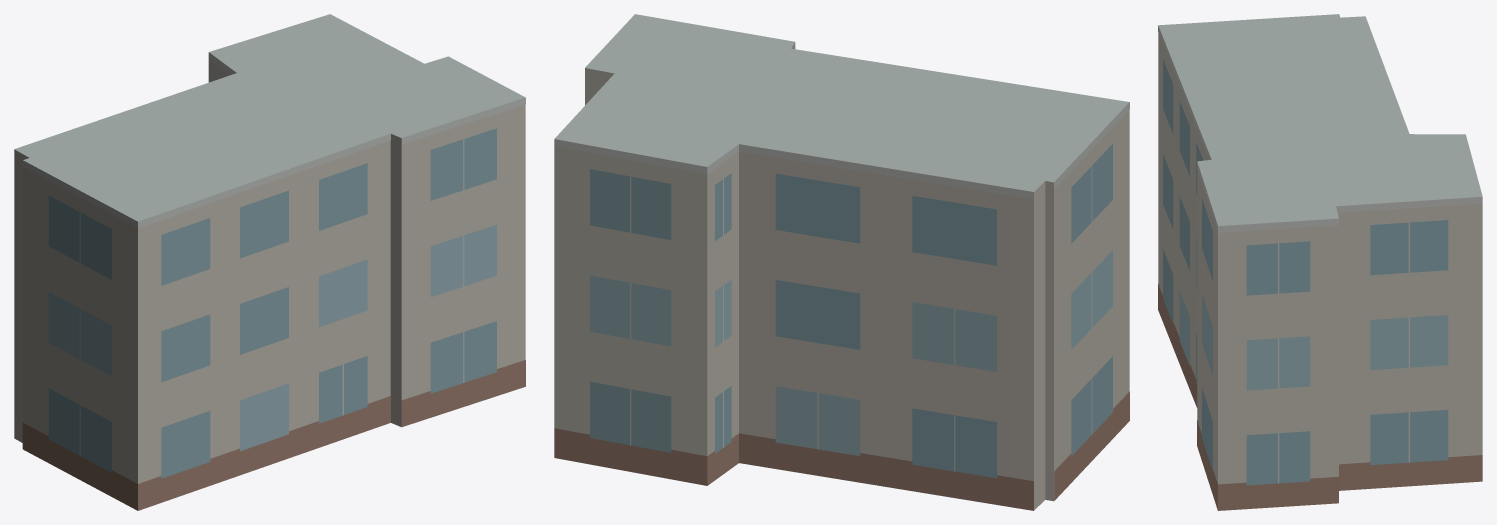
Rendered from survey-upis-32664588.glb.
The picture shows the model from 3 angles, left to right: view 1: azimuth 30°, elevation 25°; view 2: azimuth 150°, elevation 25°; view 3: azimuth 270°, elevation 25°; orthographic projection. The views are drawn at different scales.
Visible parts, largest first — view 1: survey-upis-32664588.tmp; view 2: survey-upis-32664588.tmp; view 3: survey-upis-32664588.tmp.
Boxes of the visible parts, box(x1,y1,x2,y2) form: survey-upis-32664588.tmp: box(14, 14, 525, 510); survey-upis-32664588.tmp: box(554, 14, 1129, 510); survey-upis-32664588.tmp: box(1158, 14, 1482, 510).
Bounding box in the file's own units: 16.78 × 10.5 × 10.86.
